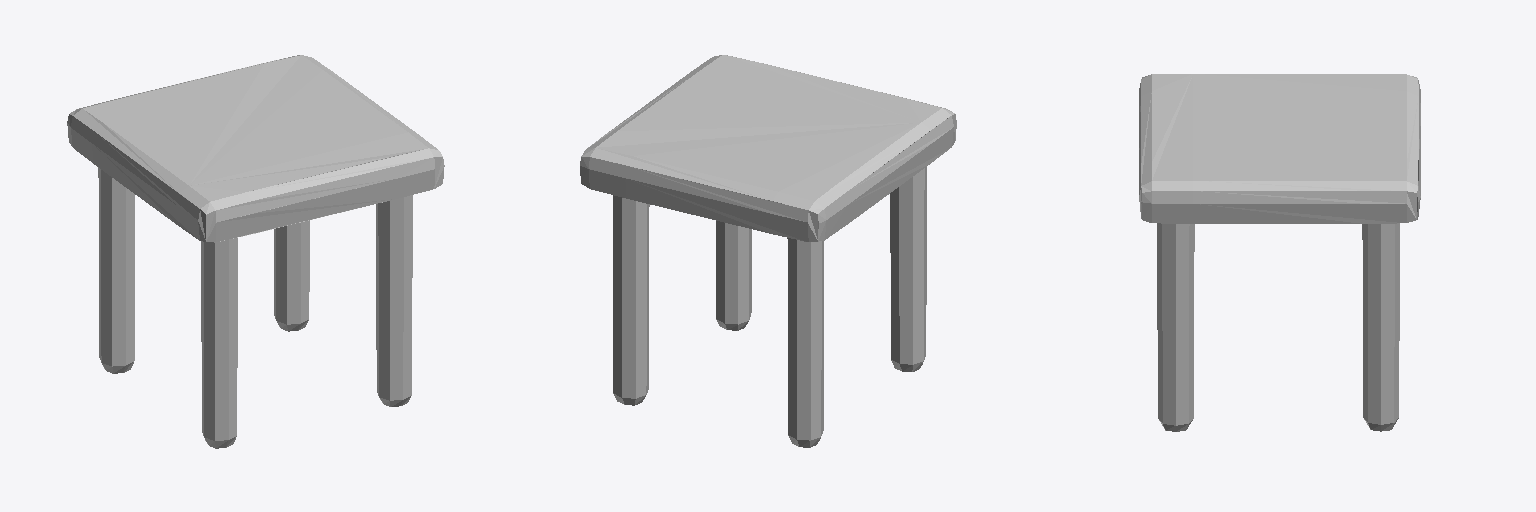
File: Chair.obj
3 views of the same model, side by side, from view 1: azimuth 30°, elevation 25°; view 2: azimuth 150°, elevation 25°; view 3: azimuth 270°, elevation 25° (orthographic).
Visible parts, largest first — view 1: Cube_Cube.001; view 2: Cube_Cube.001; view 3: Cube_Cube.001.
Part boxes in pixels (left/top/right/bottom): Cube_Cube.001: left=67, top=55, right=444, bottom=448; Cube_Cube.001: left=580, top=55, right=956, bottom=447; Cube_Cube.001: left=1139, top=74, right=1420, bottom=431.
Bounding box in the file's own units: 0.3976 × 0.3999 × 0.3978.